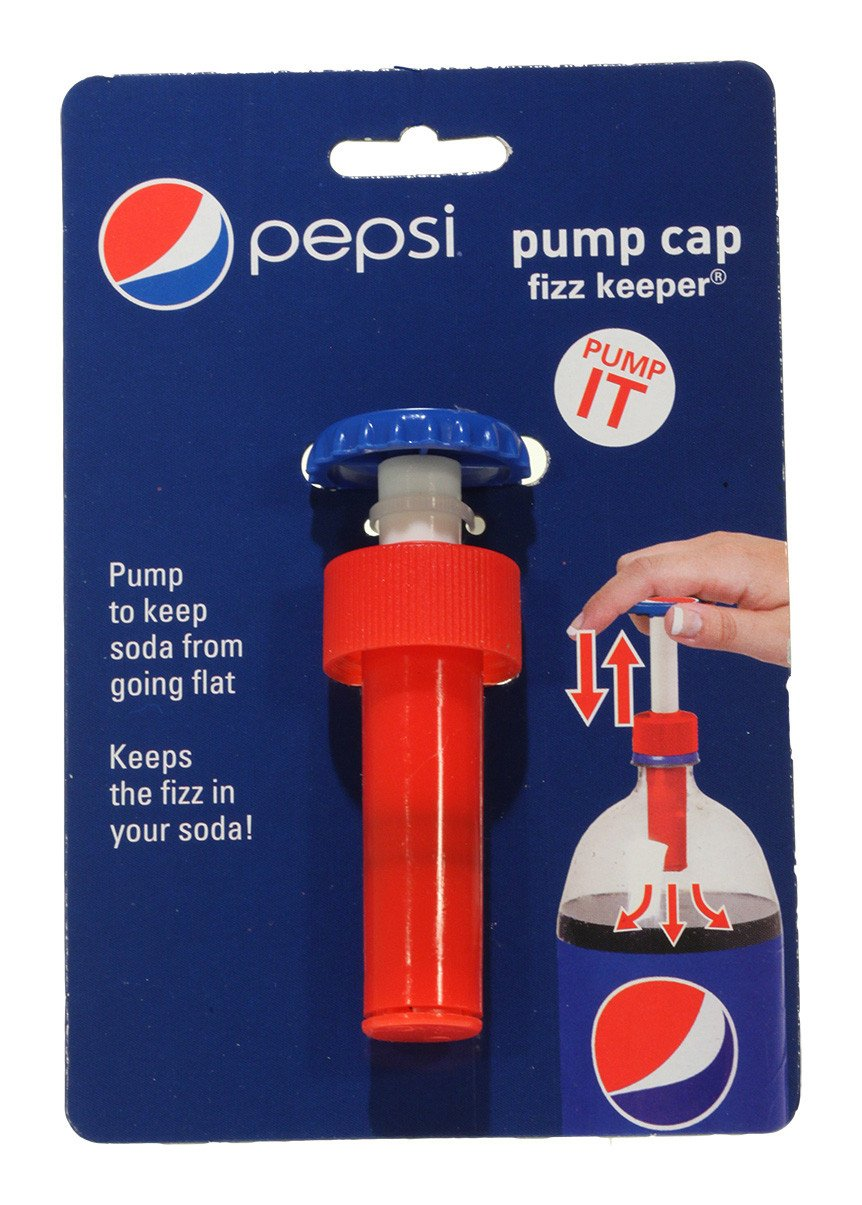pepsi: (592, 967, 742, 1125), (592, 975, 742, 1125), (97, 174, 233, 309)
